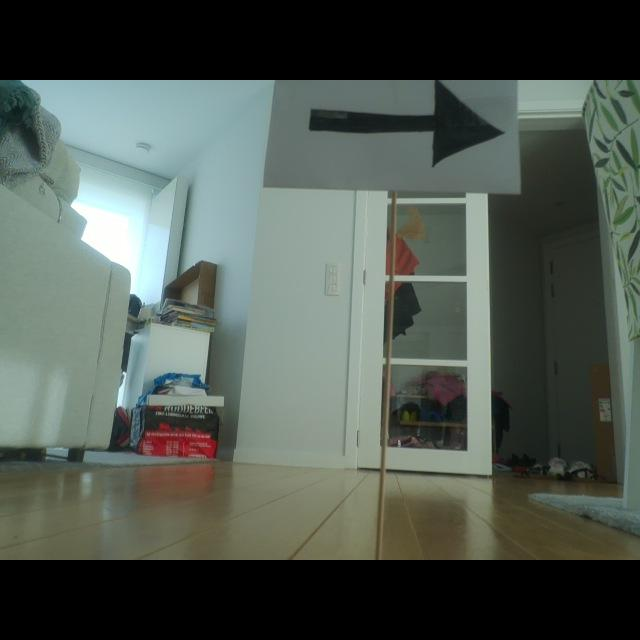jobbra_nyil: (310, 80, 504, 165)
